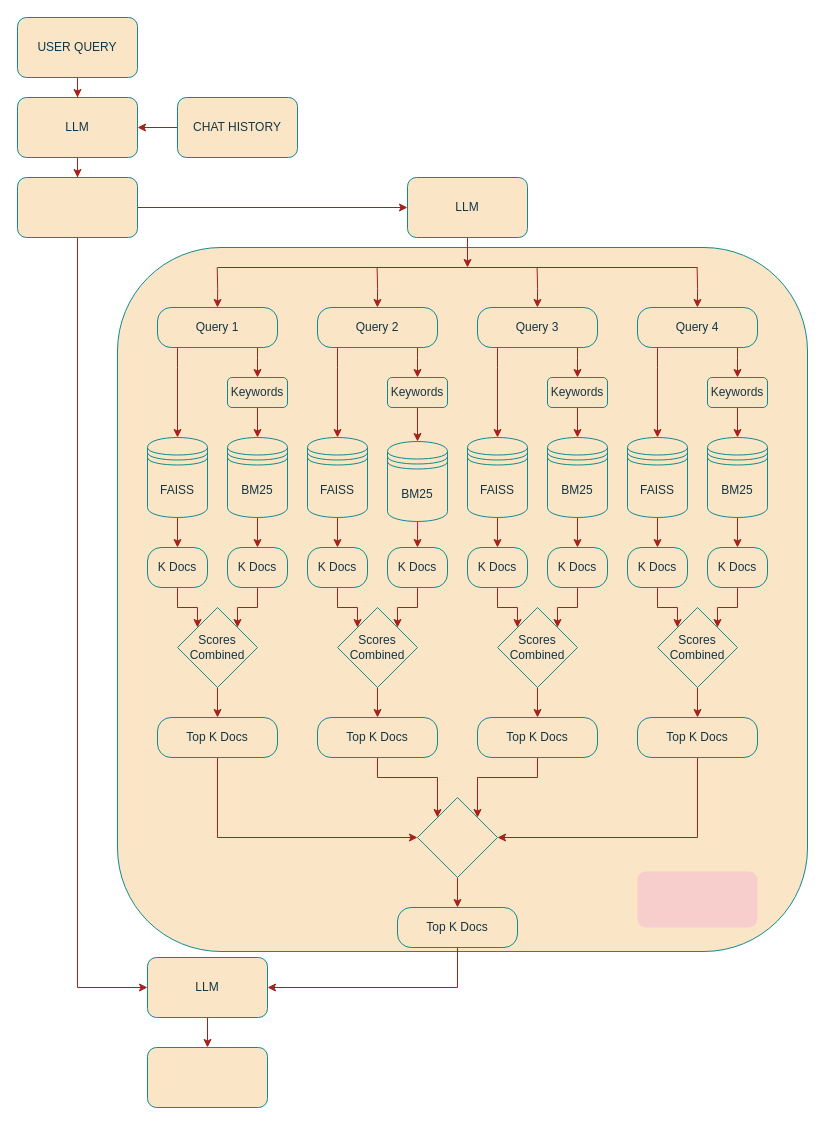
The diagram is 825 pixels wide and 1125 high, and some of its shapes have lost their labels. Here are the shapes that lost their labels. From the top down, the box of each, then its label:
(16, 176, 138, 238): Recreated Contexualized Query
(416, 796, 498, 878): RRF
(637, 871, 757, 927): FUSION RETRIEVAL
(146, 1046, 268, 1108): Final Response
